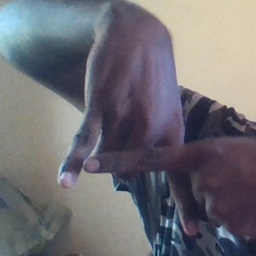H: (85, 107, 226, 242)
